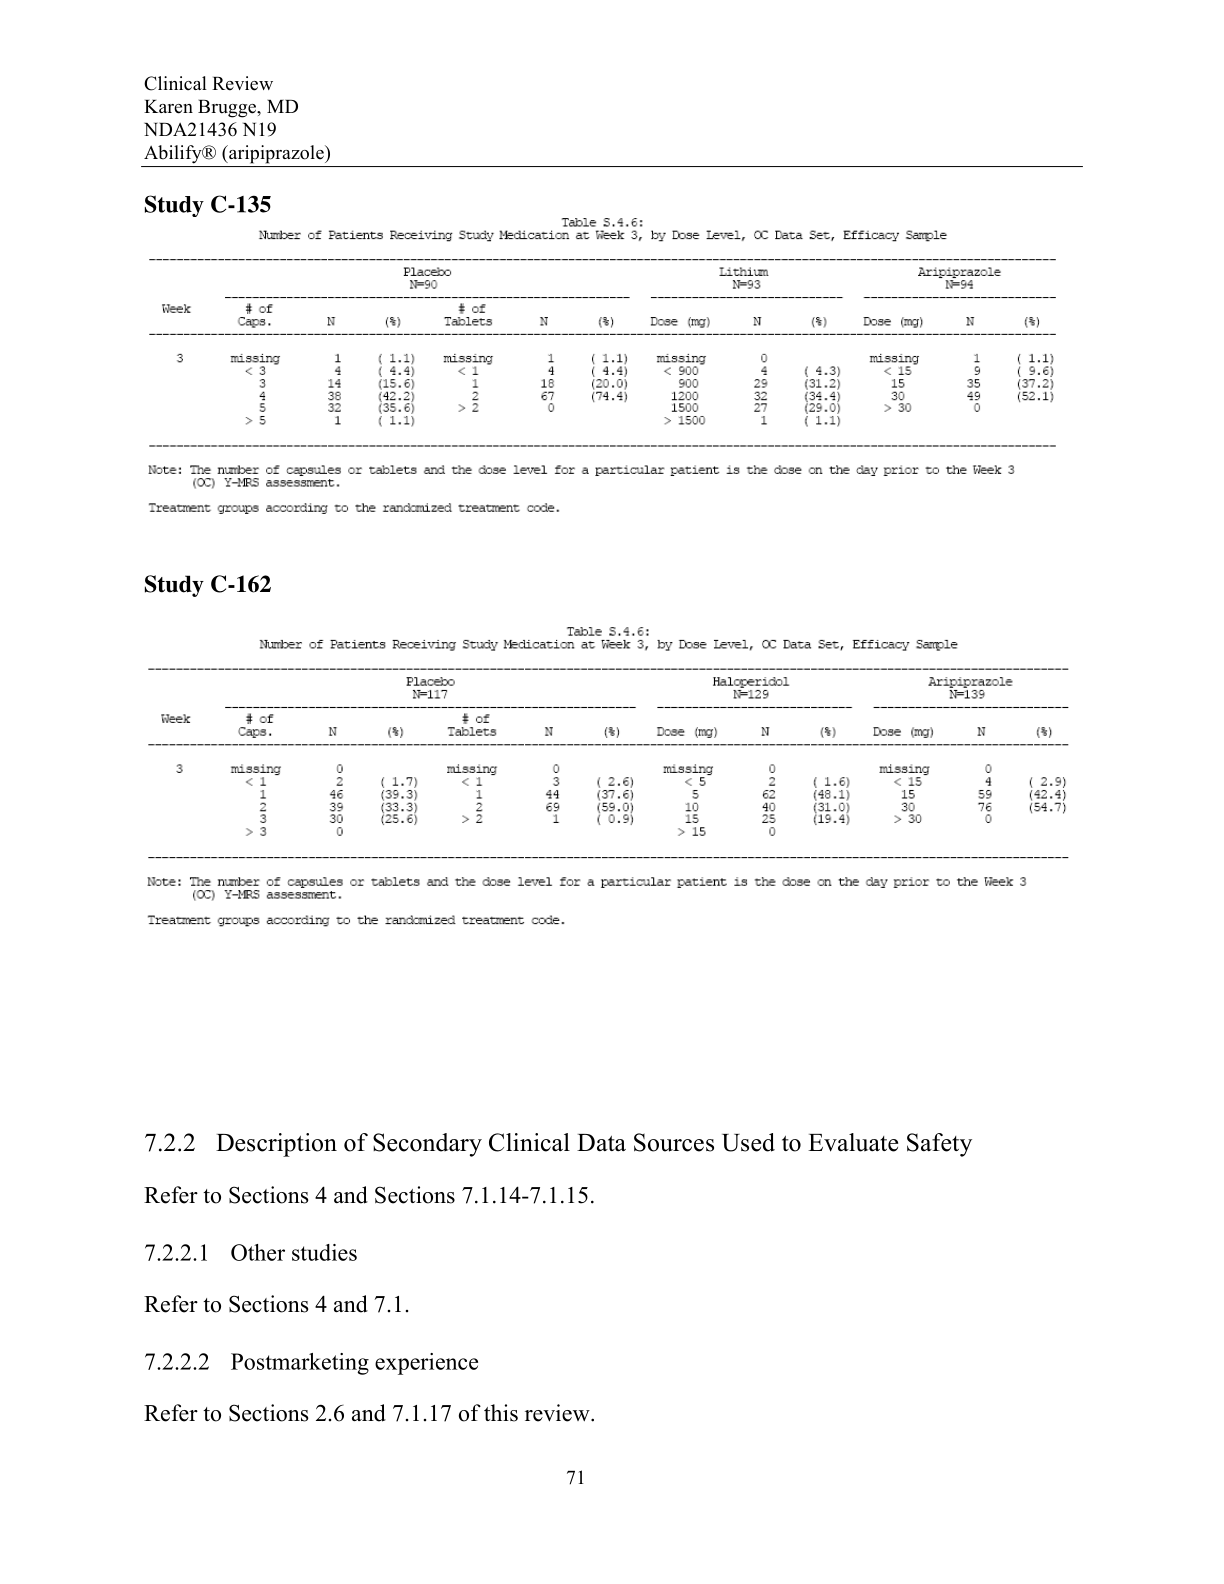partial_lined_merged_cells: (145, 665, 1074, 861), (147, 257, 1059, 449)
